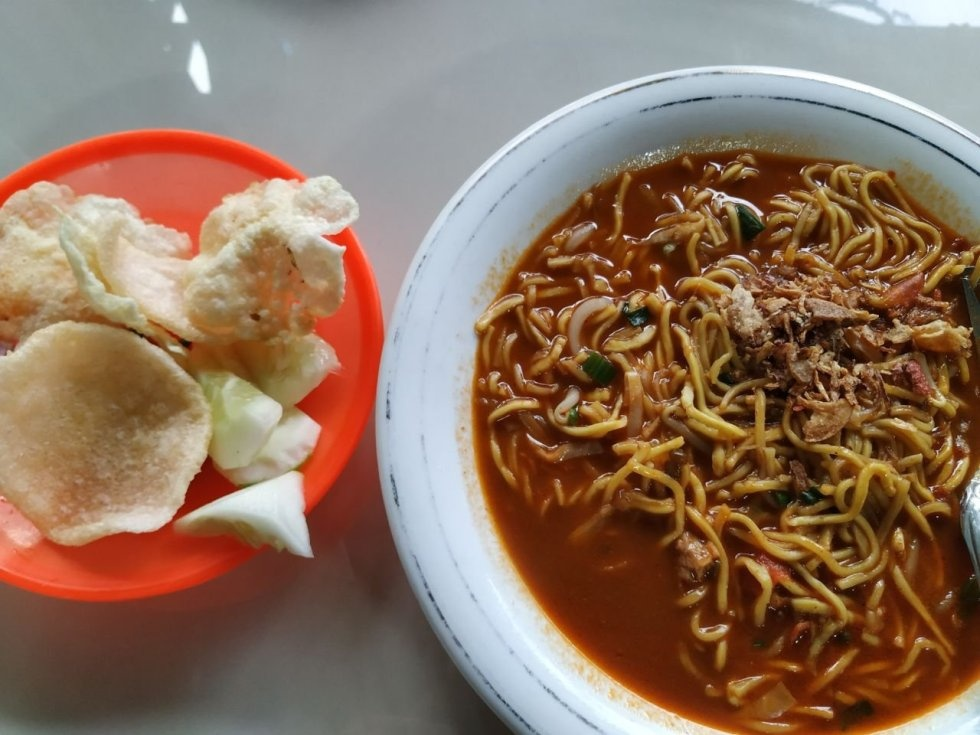mie_aceh: (474, 152, 980, 735)
